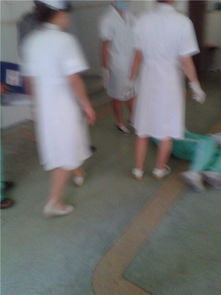falling: (142, 110, 221, 189)
